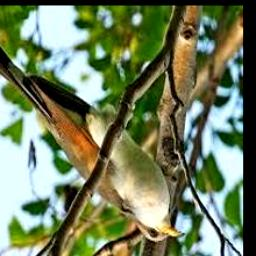Cuckoo: (0, 20, 184, 241)
